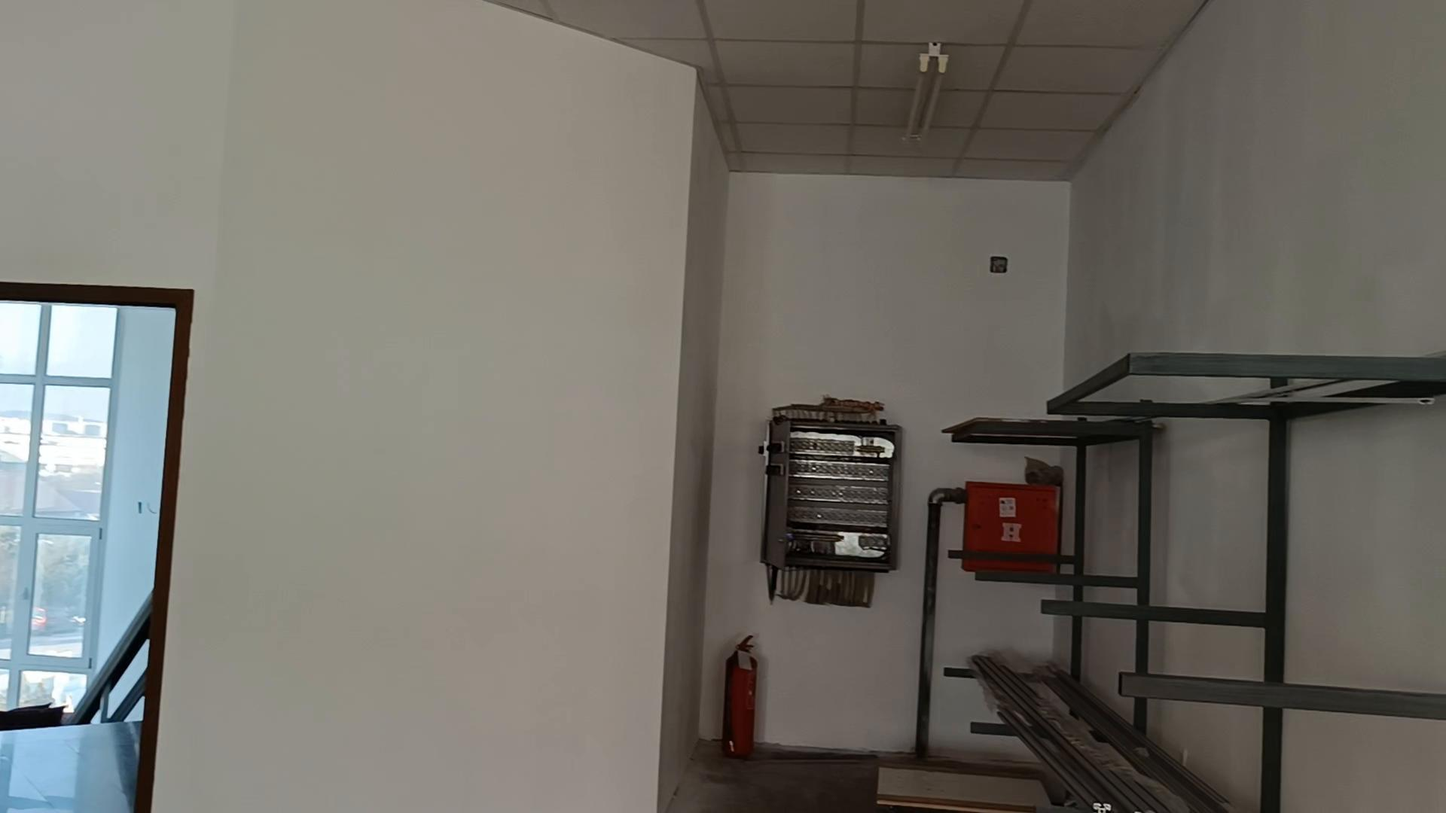ceiling: (490, 0, 1206, 179)
floor: (666, 740, 1061, 812)
pillar: (656, 85, 728, 812)
wall: (0, 0, 1445, 812), (768, 177, 1044, 419), (1286, 397, 1445, 691), (1152, 420, 1268, 608), (1283, 711, 1445, 812)
